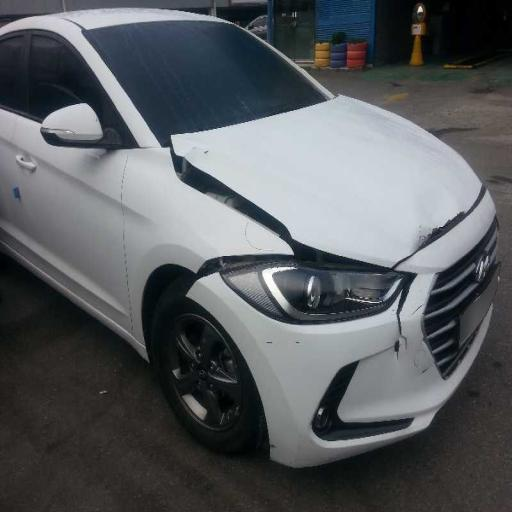broken: (175, 116, 437, 410)
